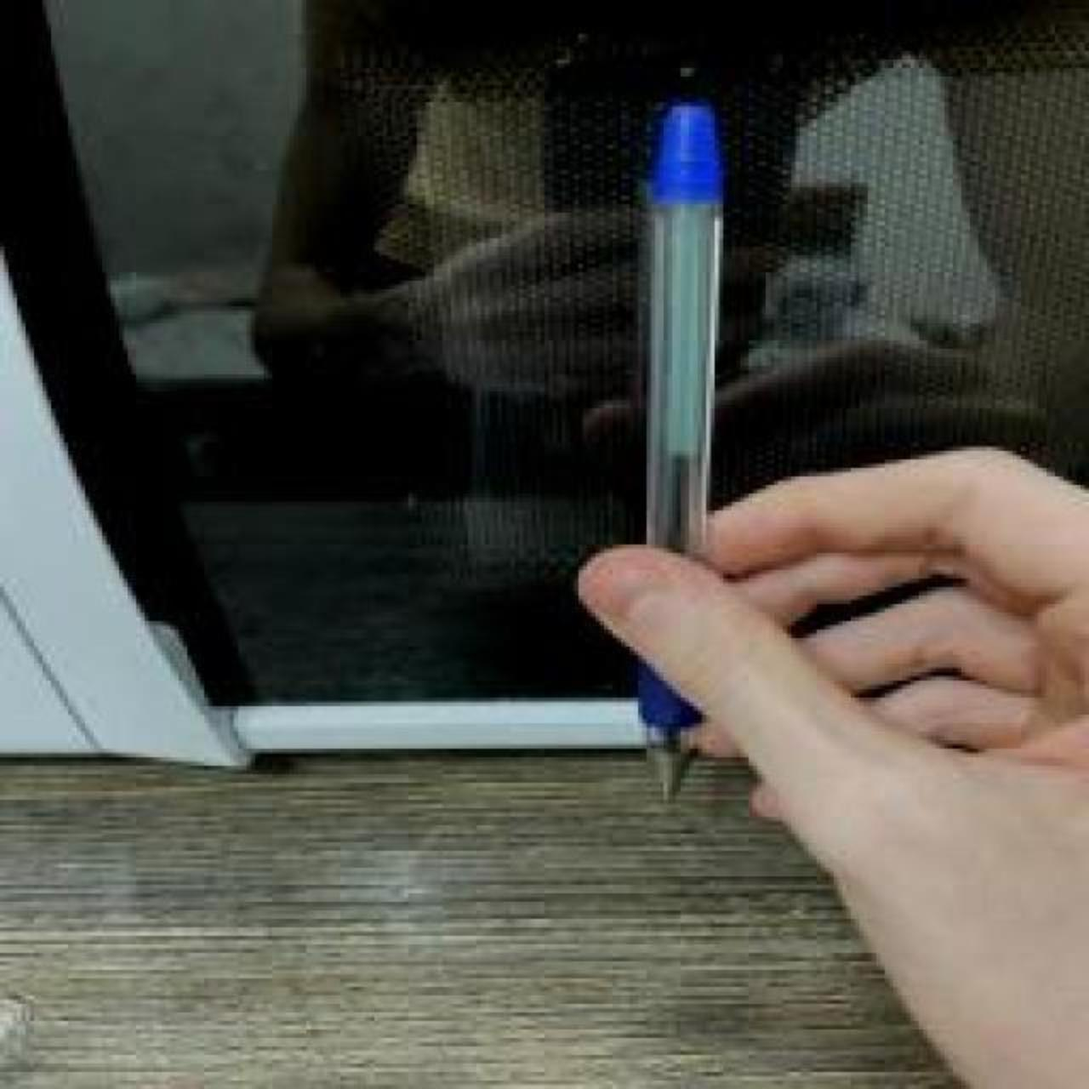pen: (633, 102, 732, 808)
